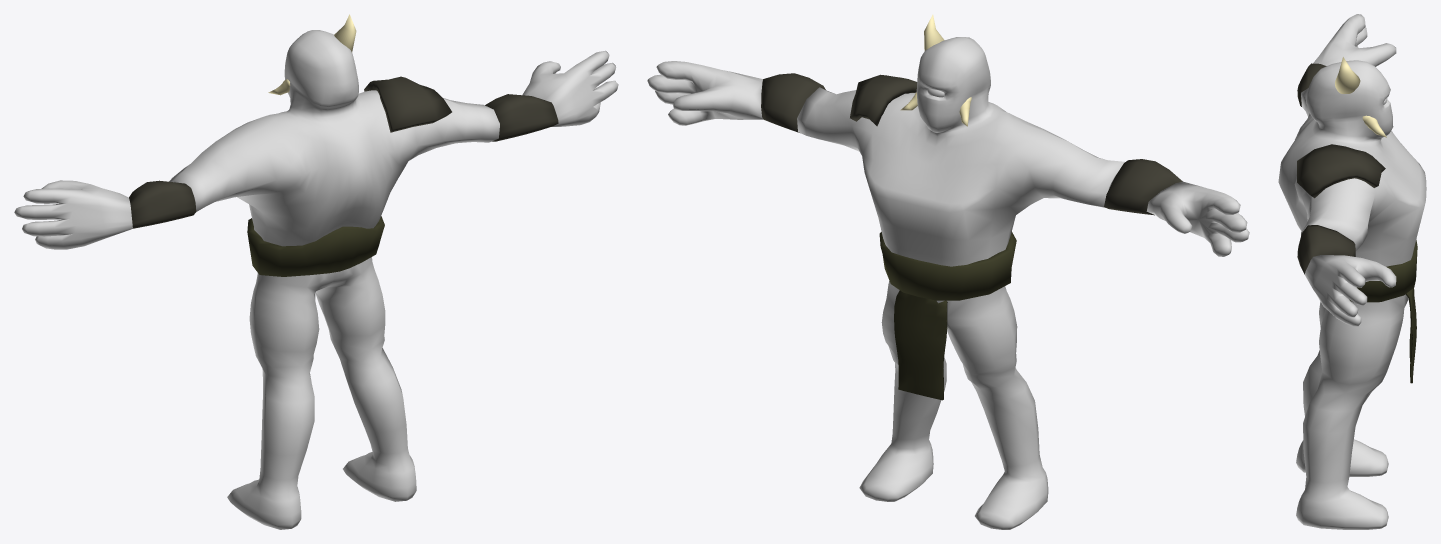
File: cyclope.fbx
3 views of the same model, side by side, from view 1: azimuth 30°, elevation 25°; view 2: azimuth 150°, elevation 25°; view 3: azimuth 270°, elevation 25° (orthographic). The views are drawn at different scales.
Parts seen in each view (by area): view 1: Character.005, Character.004, Character.003, Plane.001; view 2: Character.005, Character.004, Cube.001, Character.003, Plane.001; view 3: Character.005, Plane.001, Character.004, Character.003, Cone.002, Cube.001, Cone.003.
Part boxes in pixels (x1,y1,x2,y2): Character.005: [14, 30, 618, 529]; Character.004: [129, 94, 558, 228]; Character.003: [247, 216, 384, 276]; Plane.001: [364, 76, 451, 132]; Character.005: [647, 37, 1249, 529]; Character.004: [761, 73, 1182, 215]; Cube.001: [894, 290, 947, 400]; Character.003: [879, 231, 1016, 300]; Plane.001: [850, 74, 916, 126]; Character.005: [1278, 14, 1426, 529]; Plane.001: [1297, 144, 1385, 198]; Character.004: [1297, 63, 1355, 274]; Character.003: [1349, 240, 1417, 302]; Cone.002: [1335, 57, 1360, 93]; Cube.001: [1405, 288, 1416, 383]; Cone.003: [1362, 115, 1386, 137].
Bounding box in the file's own units: 323 × 247 × 73.28.
